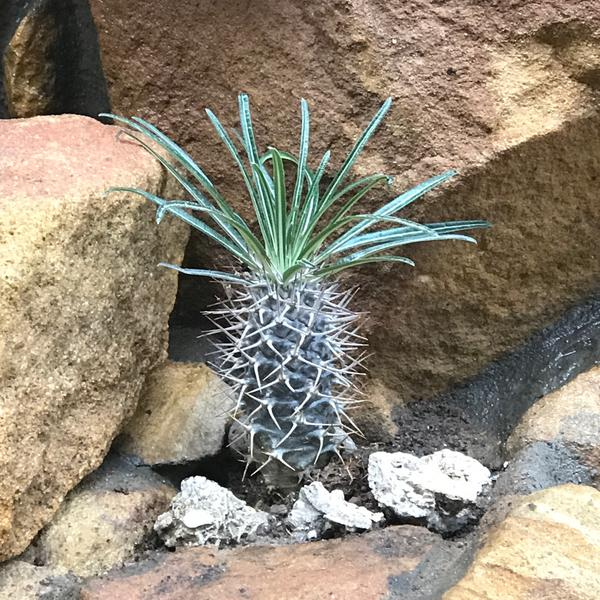Pachypodium geayi: (126, 100, 489, 496)
